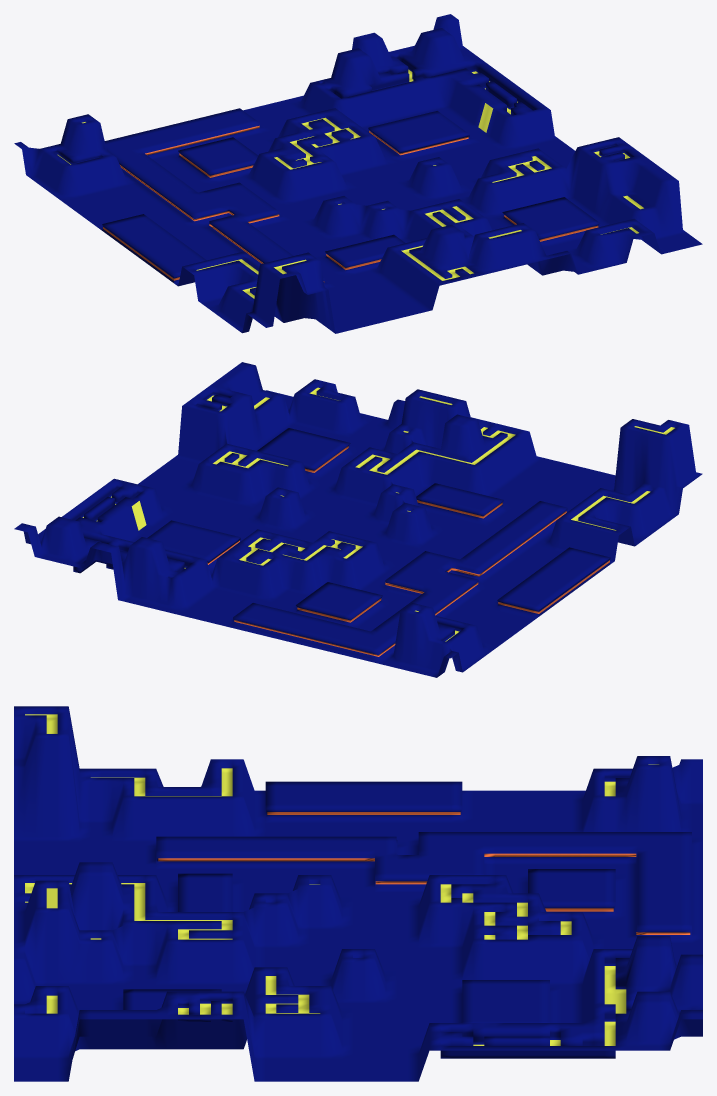
File: Level13B1.fbx
The picture shows the model from 3 angles, top to bottom: view 1: azimuth 30°, elevation 25°; view 2: azimuth 150°, elevation 25°; view 3: azimuth 270°, elevation 25°; orthographic projection. The views are drawn at different scales.
Parts seen in each view (by area): view 1: Landscape; view 2: Landscape; view 3: Landscape.
Boxes of the visible parts, box(x1,y1,x2,y2) form: Landscape: box(14, 14, 702, 333); Landscape: box(14, 362, 702, 677); Landscape: box(14, 706, 702, 1081).
Size of the model in its own units: 200 by 30 by 200.
